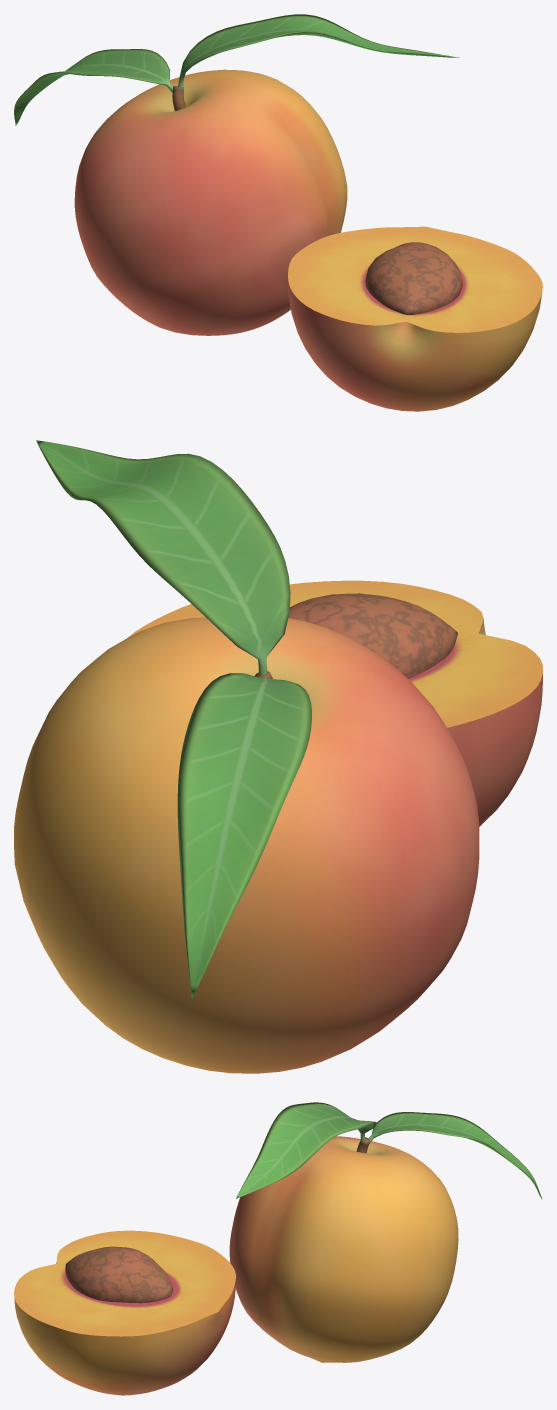
Rendered from peach.glb.
The picture shows the model from 3 angles, top to bottom: view 1: azimuth 30°, elevation 25°; view 2: azimuth 150°, elevation 25°; view 3: azimuth 270°, elevation 25°; orthographic projection. The views are drawn at different scales.
Parts seen in each view (by area): view 1: peach_body; view 2: peach_body; view 3: peach_body.
Part boxes in pixels (x1,y1,x2,y2): peach_body: (14, 14, 542, 411); peach_body: (14, 440, 542, 1073); peach_body: (14, 1102, 542, 1395).
Size of the model in its own units: 0.0934 by 0.0882 by 0.1596.
1 material, 1 textured.
